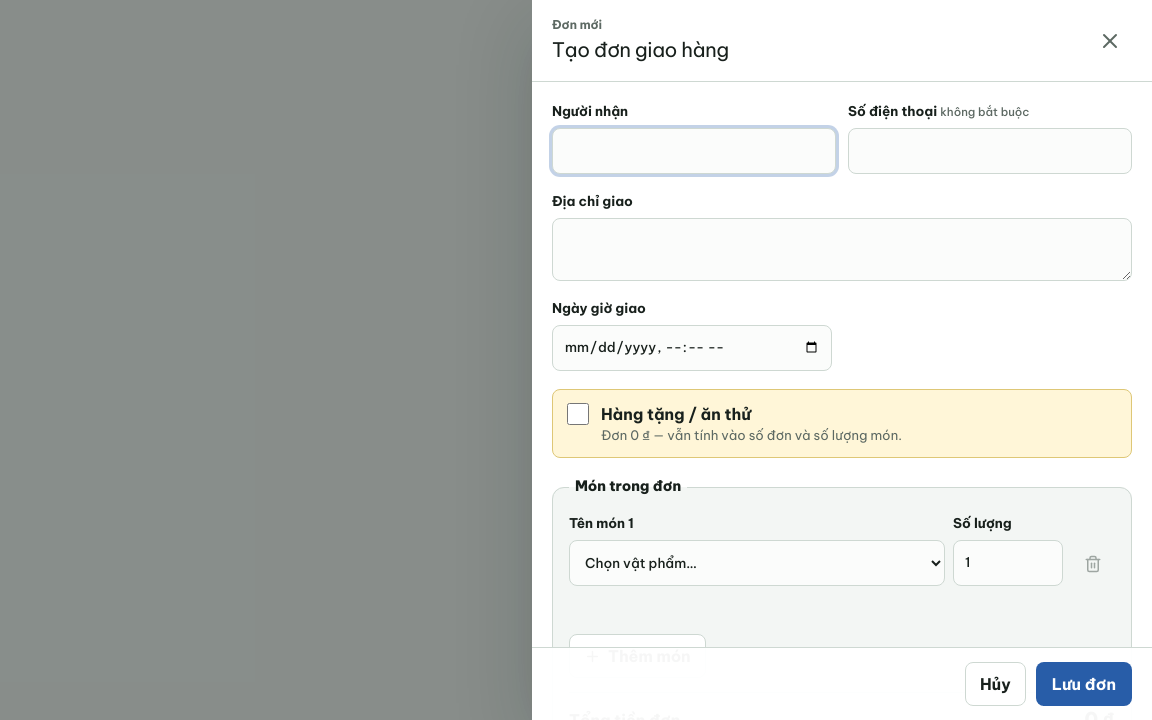
Test: OrderFormDialog › offers only active catalog items and shows line and order totals
Select "Bún bò · 55.000 ₫/hộp" in the dropdown labelled "Tên món 1" at (757, 563), box [569, 540, 945, 586]
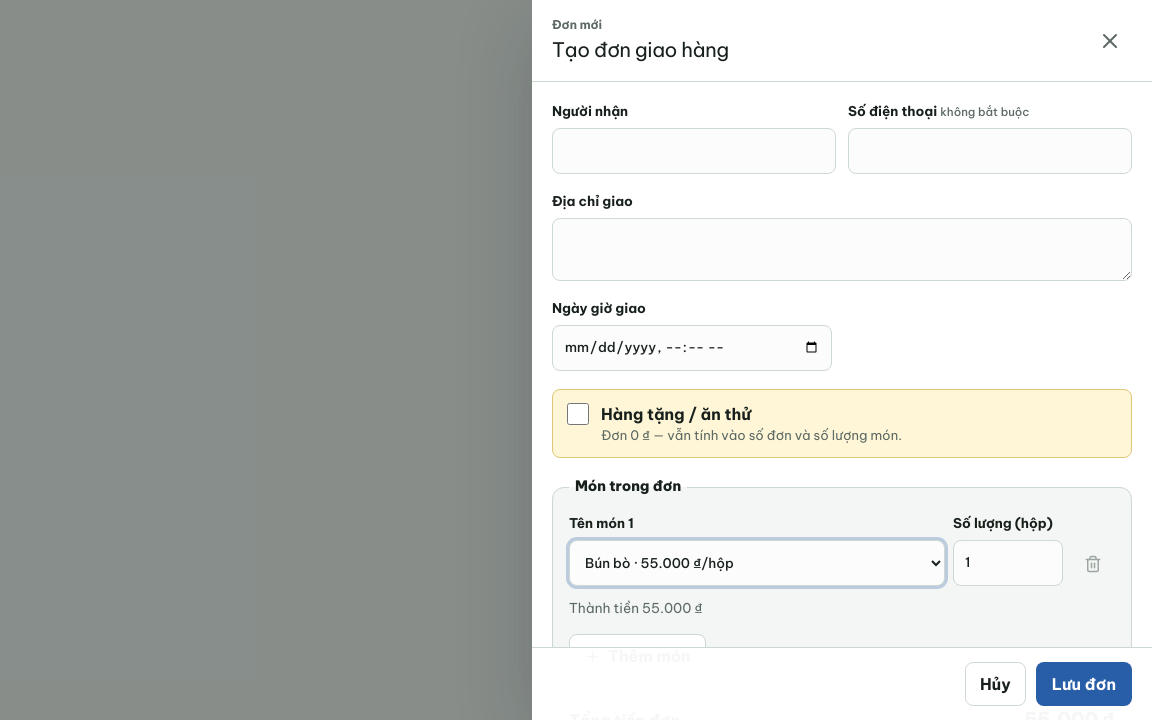
Replace the text in the number field named "Số lượng món 1" with "3" at (1008, 563), box [953, 540, 1063, 586]
(page scrolled)
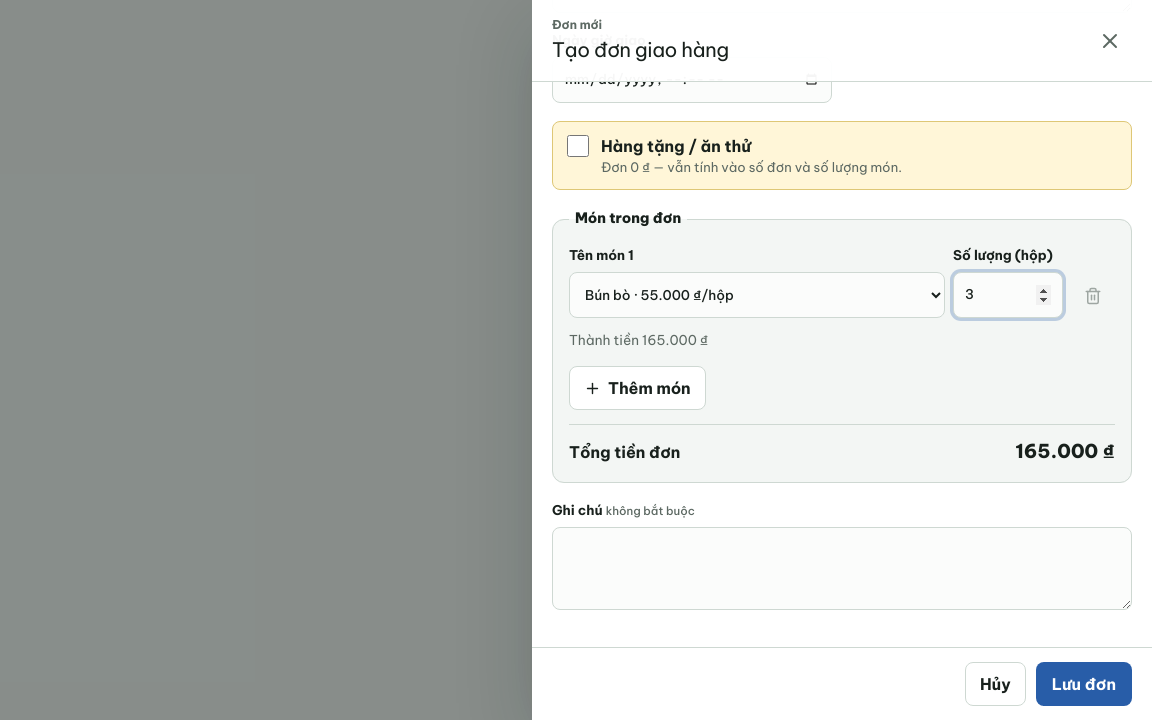
Expected: the text "Thành tiền 165.000 ₫" is shown, [569, 330, 708, 350]
Expected: the text "Tổng tiền đơn 165.000 ₫" is shown, [569, 424, 1115, 466]
